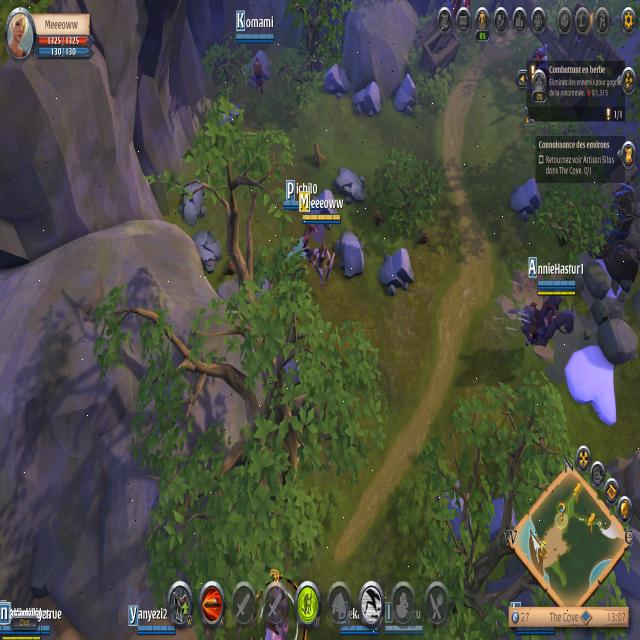broken stone: (192, 228, 222, 274), (179, 178, 207, 227), (335, 162, 365, 203)
stone: (377, 244, 416, 296), (337, 227, 366, 281), (510, 176, 543, 220), (351, 75, 383, 118), (393, 72, 418, 117), (324, 59, 351, 99), (313, 184, 339, 216)
